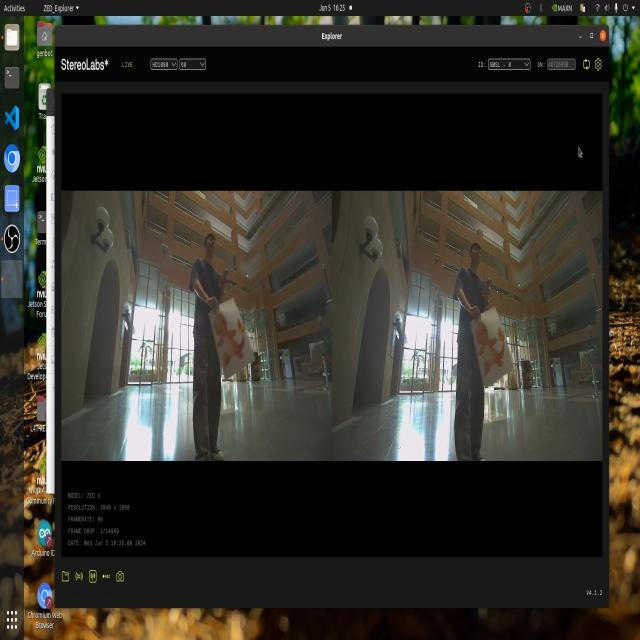red: (207, 307, 248, 373), (473, 315, 508, 377)
